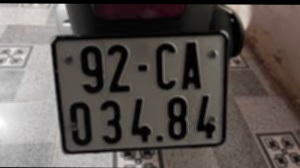Bien-so: (53, 32, 227, 157)
